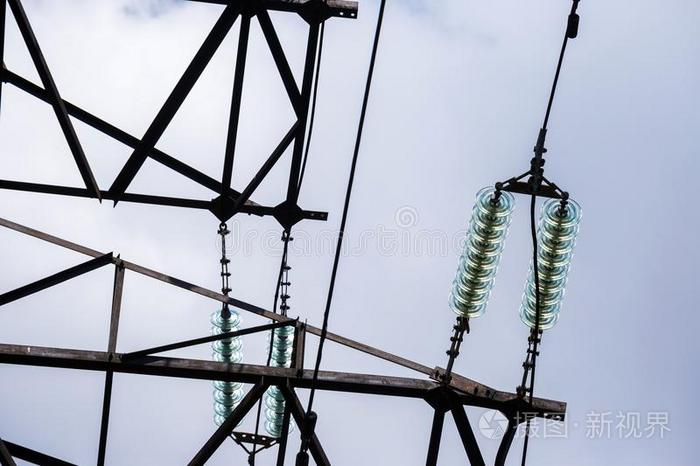insulator: (448, 187, 515, 318), (520, 197, 583, 331), (209, 309, 246, 427), (264, 320, 299, 434)
